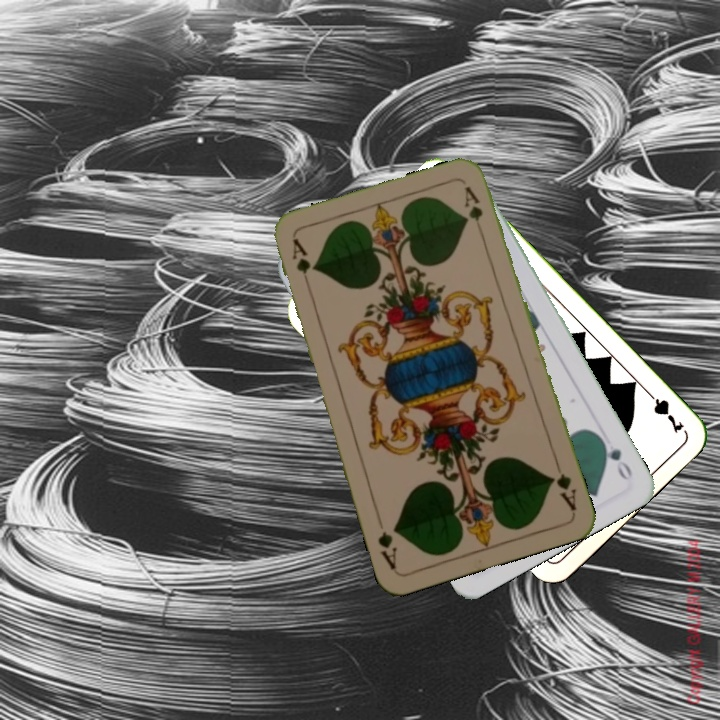G7: (641, 386, 687, 436)
GA: (547, 457, 579, 513), (288, 235, 314, 294)
GO: (595, 432, 635, 484)
